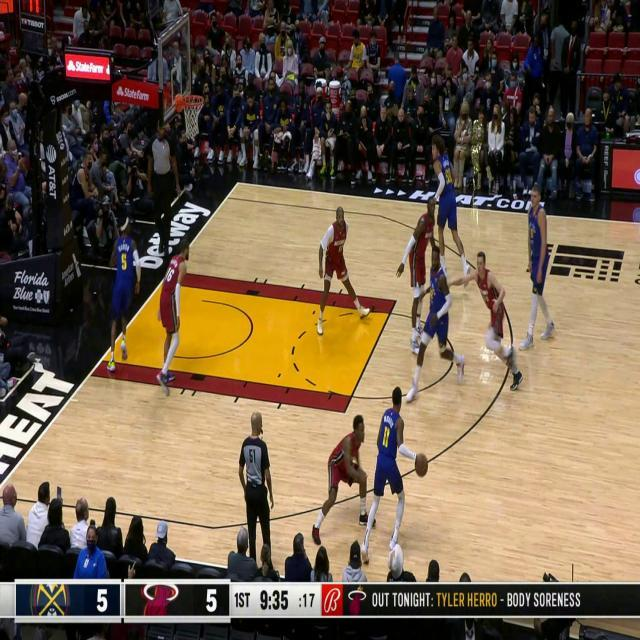rim: (415, 454, 428, 477)
